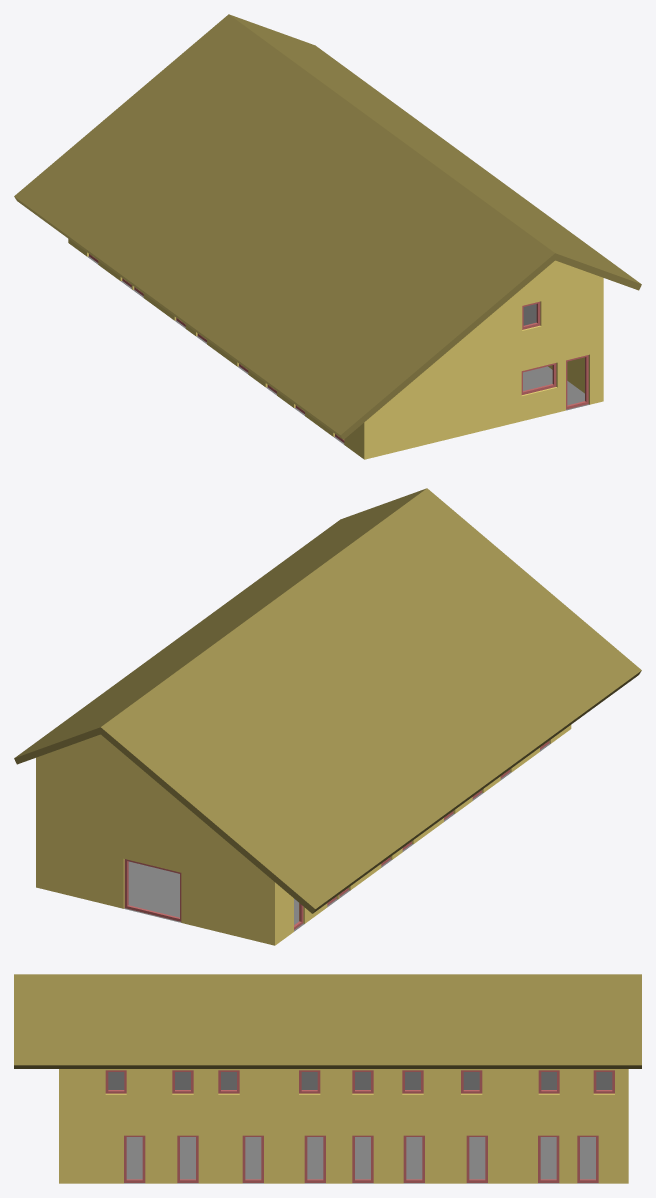
The model's file is result.glb.
3 renders of one model, top to bottom at view 1: azimuth 30°, elevation 25°; view 2: azimuth 150°, elevation 25°; view 3: azimuth 270°, elevation 25°, orthographic. The views are drawn at different scales.
Parts seen in each view (by area): view 1: dff24c02-2dd4-45bd-ad9b-27eb848b389b__undefined (×2), 2982e32f-5752-4117-86be-06b58662e566__undefined, 9e039497-c7e3-423e-bdfb-1e777d619db4__Plane_40; view 2: dff24c02-2dd4-45bd-ad9b-27eb848b389b__undefined (×2), 2982e32f-5752-4117-86be-06b58662e566__undefined, 9e039497-c7e3-423e-bdfb-1e777d619db4__Plane_40, 109d389d-9cfc-4d7f-9183-adcb99cd7ba4__Box_9; view 3: dff24c02-2dd4-45bd-ad9b-27eb848b389b__undefined, 2982e32f-5752-4117-86be-06b58662e566__undefined, 9e039497-c7e3-423e-bdfb-1e777d619db4__Plane_40, 59e16d5b-732f-46f5-8b3b-c4a9a9d4cf89__Box_120, 213b499f-ebf8-4081-b47b-5363d2167fe6__Box_66, abe7fc31-fd96-41e5-87ac-d591f53a32e7__Box_72, 2742898e-5d1b-41ab-9fb6-0c247111f28a__Box_75, 97cb4d4e-50b5-43f7-bef5-26d4a70daece__Box_81, 4a7f70d1-6aaf-486a-ae62-b619c2203fb5__Box_84, 967b0f01-46fb-4384-9acd-7e49dc5db5c5__Box_87, f0867202-3df2-4344-9865-585ca176f416__Box_69, 0577815a-aab2-4680-ba8e-fe47244828fb__Box_78 (+1 smaller).
Part boxes in pixels (x1,y1,x2,y2): dff24c02-2dd4-45bd-ad9b-27eb848b389b__undefined (×2): [14, 14, 641, 439]; 2982e32f-5752-4117-86be-06b58662e566__undefined: [68, 239, 603, 459]; 9e039497-c7e3-423e-bdfb-1e777d619db4__Plane_40: [87, 256, 589, 444]; dff24c02-2dd4-45bd-ad9b-27eb848b389b__undefined (×2): [14, 488, 641, 913]; 2982e32f-5752-4117-86be-06b58662e566__undefined: [36, 725, 571, 945]; 9e039497-c7e3-423e-bdfb-1e777d619db4__Plane_40: [124, 743, 550, 931]; 109d389d-9cfc-4d7f-9183-adcb99cd7ba4__Box_9: [124, 859, 181, 921]; dff24c02-2dd4-45bd-ad9b-27eb848b389b__undefined: [14, 974, 641, 1068]; 2982e32f-5752-4117-86be-06b58662e566__undefined: [59, 1069, 628, 1183]; 9e039497-c7e3-423e-bdfb-1e777d619db4__Plane_40: [124, 1137, 598, 1183]; 59e16d5b-732f-46f5-8b3b-c4a9a9d4cf89__Box_120: [108, 1072, 612, 1089]; 213b499f-ebf8-4081-b47b-5363d2167fe6__Box_66: [124, 1135, 145, 1182]; abe7fc31-fd96-41e5-87ac-d591f53a32e7__Box_72: [242, 1135, 263, 1182]; 2742898e-5d1b-41ab-9fb6-0c247111f28a__Box_75: [304, 1135, 325, 1182]; 97cb4d4e-50b5-43f7-bef5-26d4a70daece__Box_81: [403, 1135, 424, 1182]; 4a7f70d1-6aaf-486a-ae62-b619c2203fb5__Box_84: [466, 1135, 487, 1182]; 967b0f01-46fb-4384-9acd-7e49dc5db5c5__Box_87: [538, 1135, 559, 1182]; f0867202-3df2-4344-9865-585ca176f416__Box_69: [177, 1135, 198, 1182]; 0577815a-aab2-4680-ba8e-fe47244828fb__Box_78: [352, 1135, 373, 1182].
Size of the model in its own units: 1258 by 729 by 2360.
